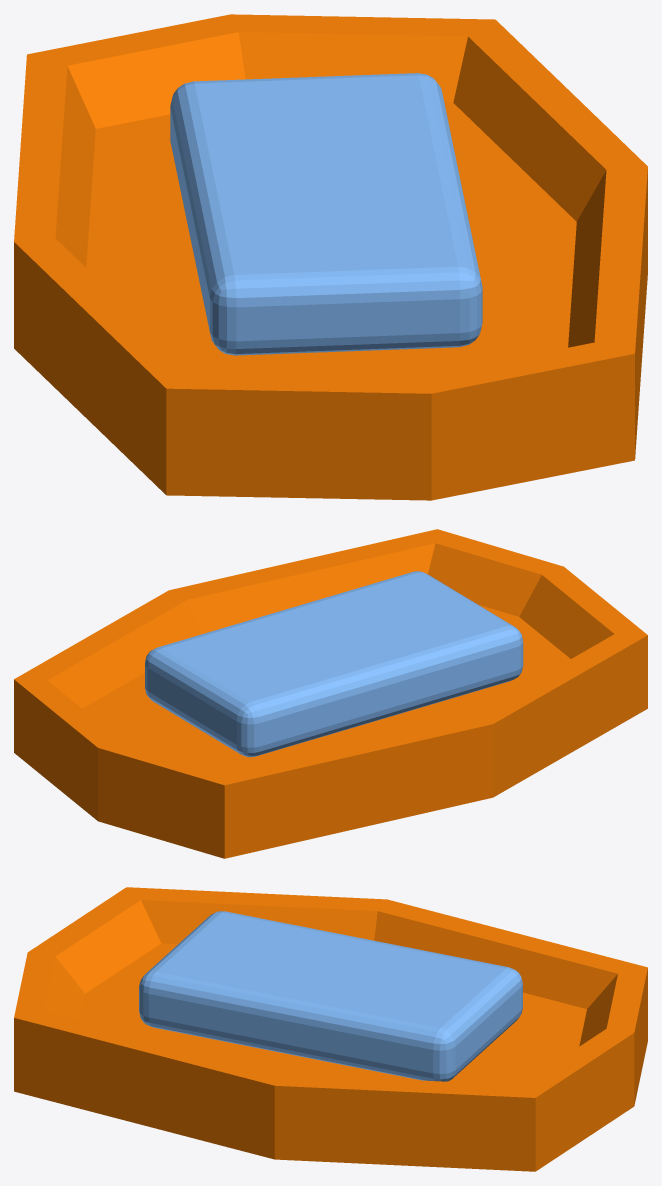
The model's file is Soap_2.fbx.
The picture shows the model from 3 angles, top to bottom: view 1: azimuth 30°, elevation 25°; view 2: azimuth 150°, elevation 25°; view 3: azimuth 270°, elevation 25°; orthographic projection. The views are drawn at different scales.
Visible parts, largest first — view 1: Soap_2; view 2: Soap_2; view 3: Soap_2.
Boxes of the visible parts, x1=… form: Soap_2: x1=14, y1=14, x2=647, y2=500; Soap_2: x1=14, y1=529, x2=647, y2=858; Soap_2: x1=14, y1=887, x2=647, y2=1171.
Bounding box in the file's own units: 0.074 × 0.0155 × 0.0941.
